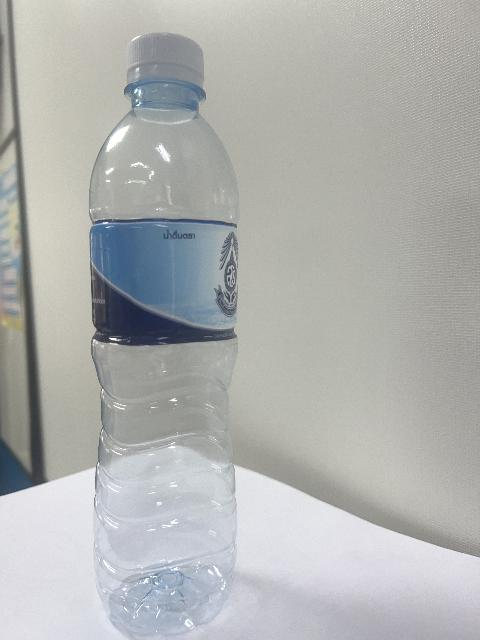bottle: (90, 34, 238, 636)
